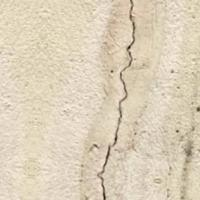crack: (84, 0, 151, 199)
